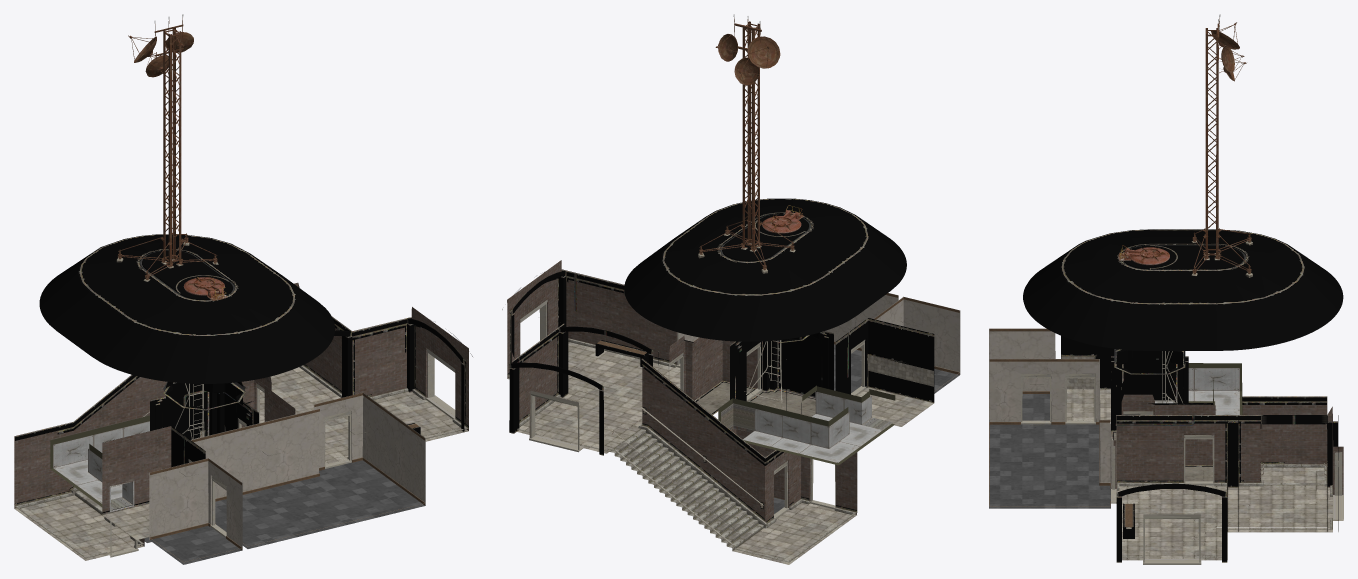
The model's file is entrance_bunker_c-close.glb.
3 views of the same model, side by side, from view 1: azimuth 30°, elevation 25°; view 2: azimuth 150°, elevation 25°; view 3: azimuth 270°, elevation 25° (orthographic). The views are drawn at different scales.
Parts seen in each view (by area): view 1: stairwell_top_country_b_LOD0, antena_helipad_base_LOD0, bunker_hatch; view 2: stairwell_top_country_b_LOD0, antena_helipad_base_LOD0, bunker_hatch; view 3: stairwell_top_country_b_LOD0, antena_helipad_base_LOD0, bunker_hatch.
Part boxes in pixels (left/top/right/bottom): stairwell_top_country_b_LOD0: left=14, top=234, right=473, bottom=564; antena_helipad_base_LOD0: left=116, top=17, right=218, bottom=281; bunker_hatch: left=183, top=276, right=227, bottom=300; stairwell_top_country_b_LOD0: left=502, top=198, right=960, bottom=564; antena_helipad_base_LOD0: left=698, top=17, right=795, bottom=273; bunker_hatch: left=762, top=205, right=804, bottom=233; stairwell_top_country_b_LOD0: left=989, top=229, right=1343, bottom=564; antena_helipad_base_LOD0: left=1191, top=17, right=1252, bottom=277; bunker_hatch: left=1118, top=245, right=1169, bottom=265.
Bounding box in the file's own units: 18.75 × 24.6 × 16.
15 materials, 14 textured.
